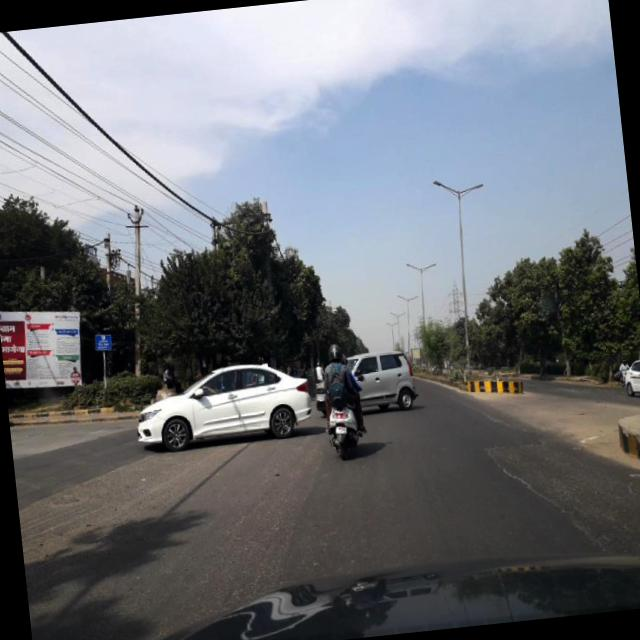pothole: (483, 436, 550, 506), (552, 495, 619, 565)
